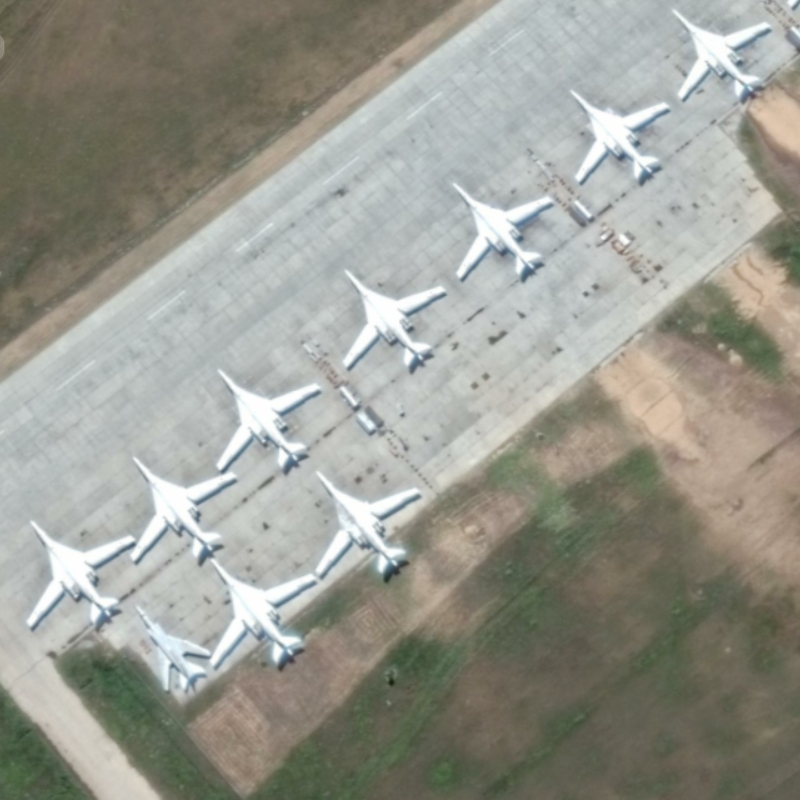A12: (129, 600, 213, 696)
A6: (22, 514, 139, 636), (205, 553, 319, 677), (310, 466, 425, 584), (213, 362, 327, 481), (124, 451, 236, 567), (339, 261, 449, 375), (448, 175, 555, 290), (565, 82, 673, 186), (668, 4, 777, 103)
